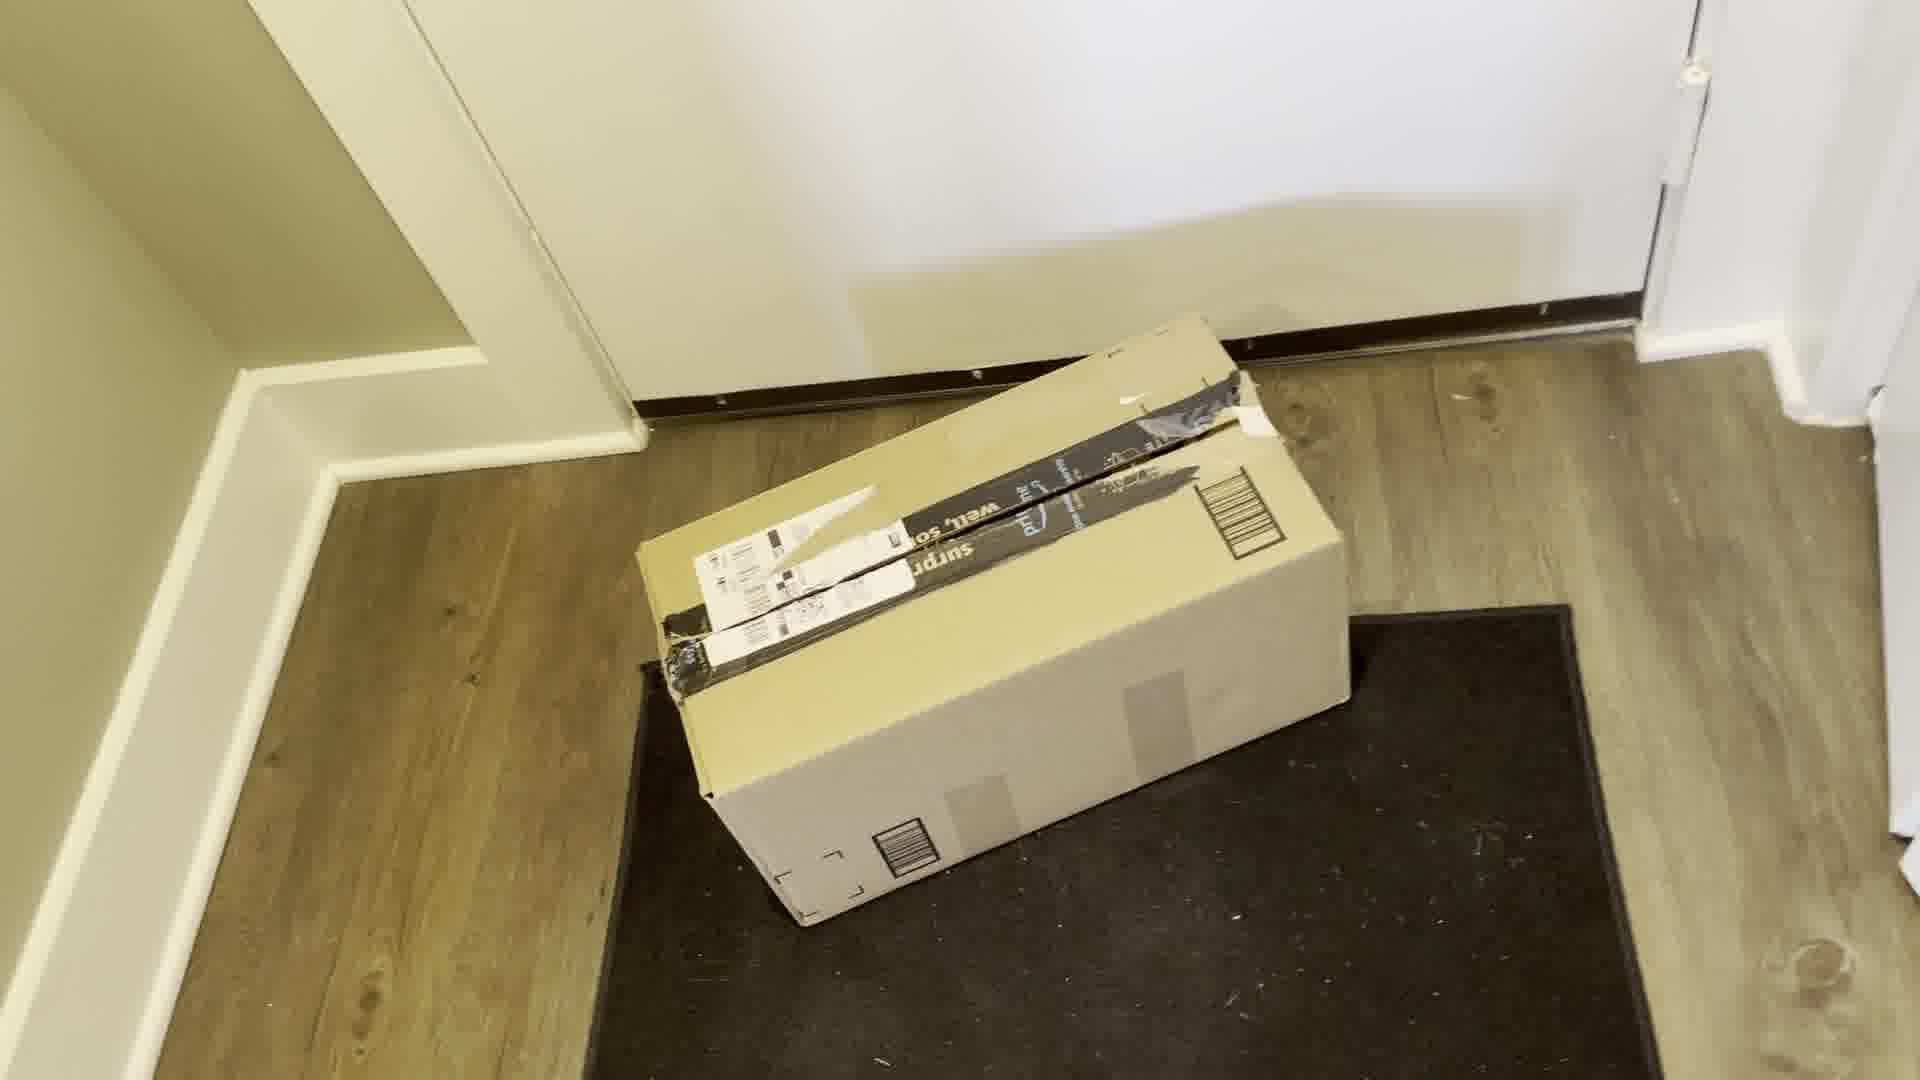box: (620, 276, 1375, 899)
